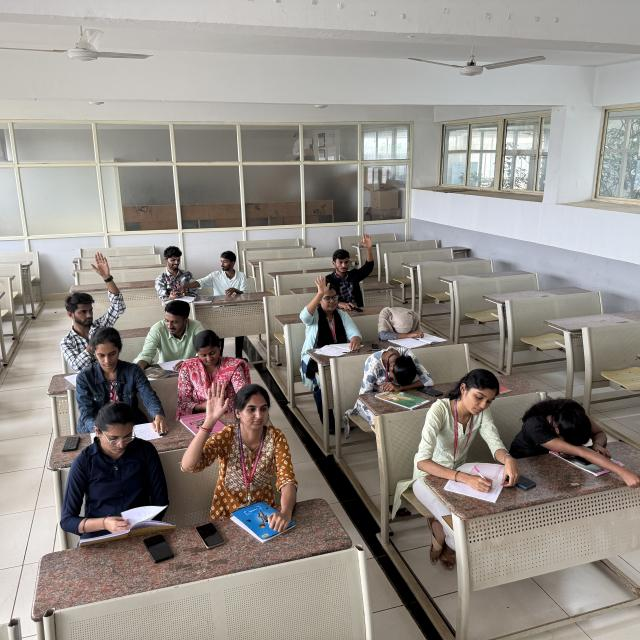Hand Rising: (186, 382, 294, 502), (52, 252, 128, 356), (301, 272, 361, 350), (326, 234, 381, 302)
Reading: (64, 407, 175, 545)
Sleeping: (511, 384, 618, 462), (357, 338, 438, 396), (372, 298, 432, 342)
Using Phone: (155, 247, 200, 302)
Writing: (414, 362, 520, 494)
